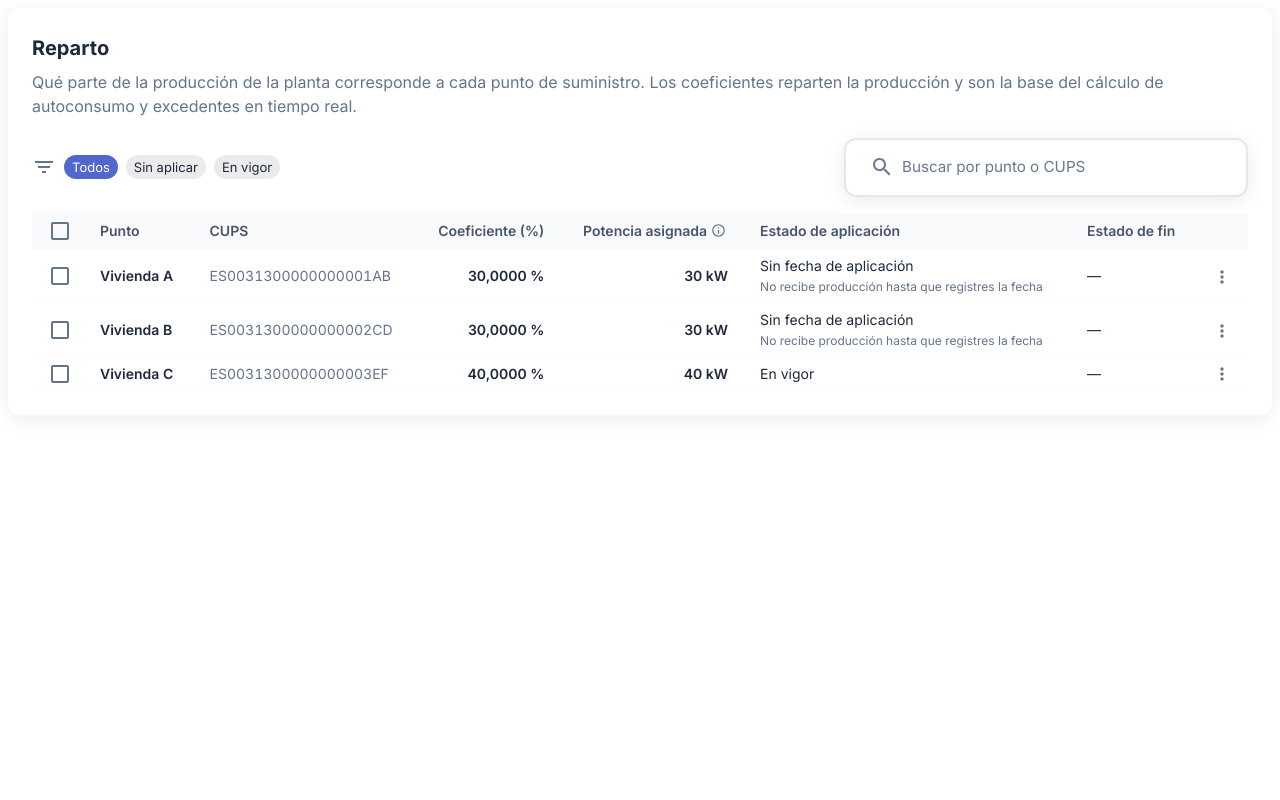
SharingAgreementCoefficientSet (batch activation) › UI-AGR-006 singular/plural count text
The image size is (1280, 800).
Click the checkbox named "Seleccionar Vivienda A" at (60,276), box [48, 264, 72, 288]
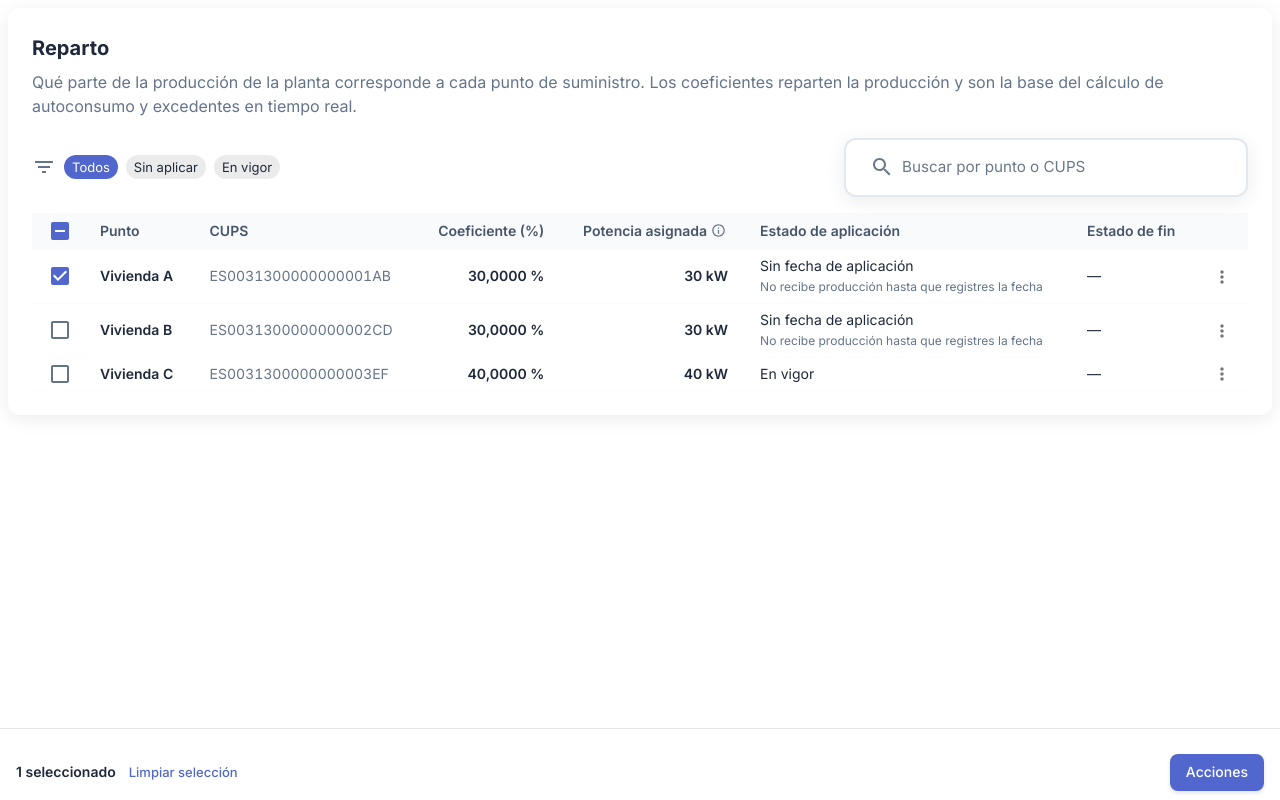
Expected: the text "1 seleccionado" is shown, [16, 762, 116, 782]
Click the checkbox named "Seleccionar Vivienda B" at (60,330), box [48, 318, 72, 342]
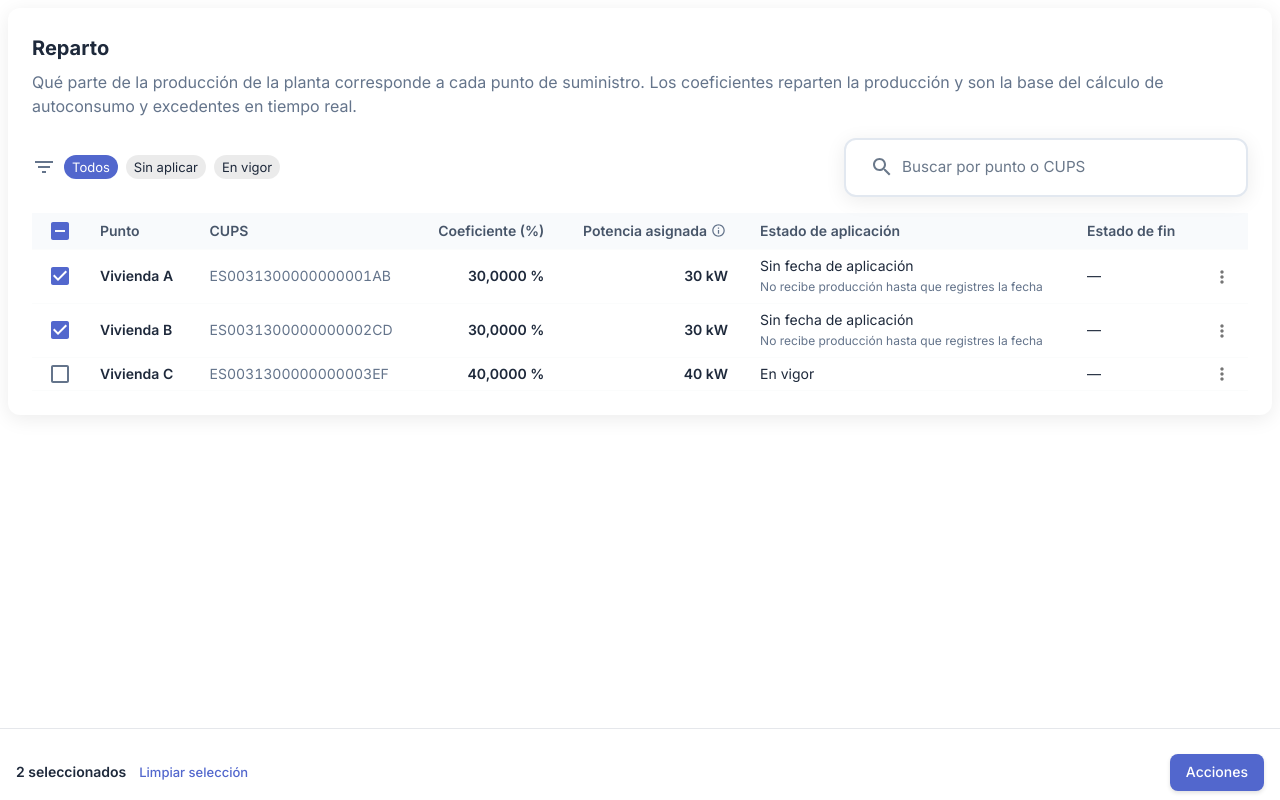
Expected: the text "2 seleccionados" is shown, [16, 762, 126, 782]
